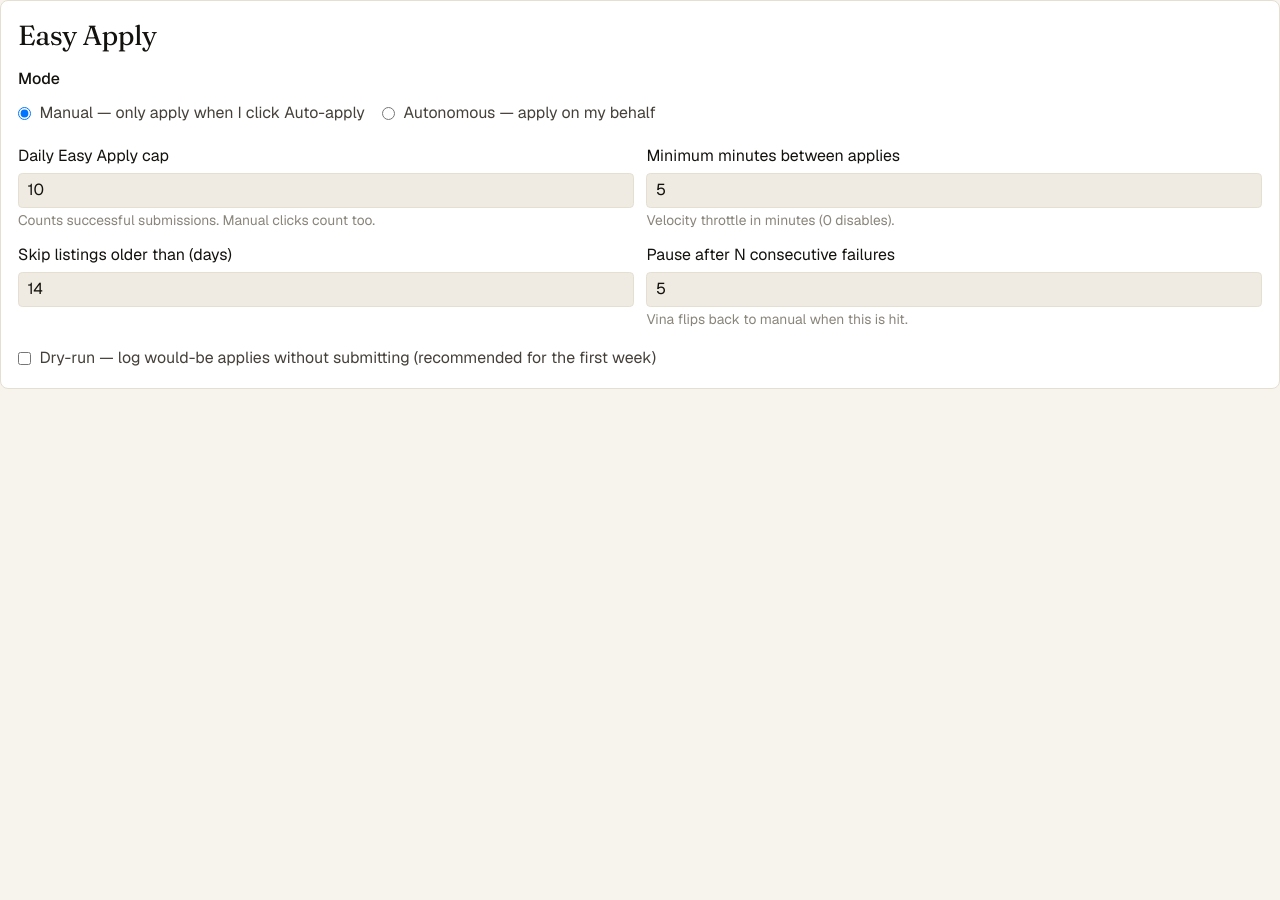
Test: EasyApplyTile › cancelling the risk dialog leaves the mode unchanged
Expected: the radio button labelled "Manual — only apply when I click Auto-apply" is shown, [18,107,31,120]
Step 1. Click the radio button labelled "Autonomous — apply on my behalf" → (388, 113), box [382,107,395,120]
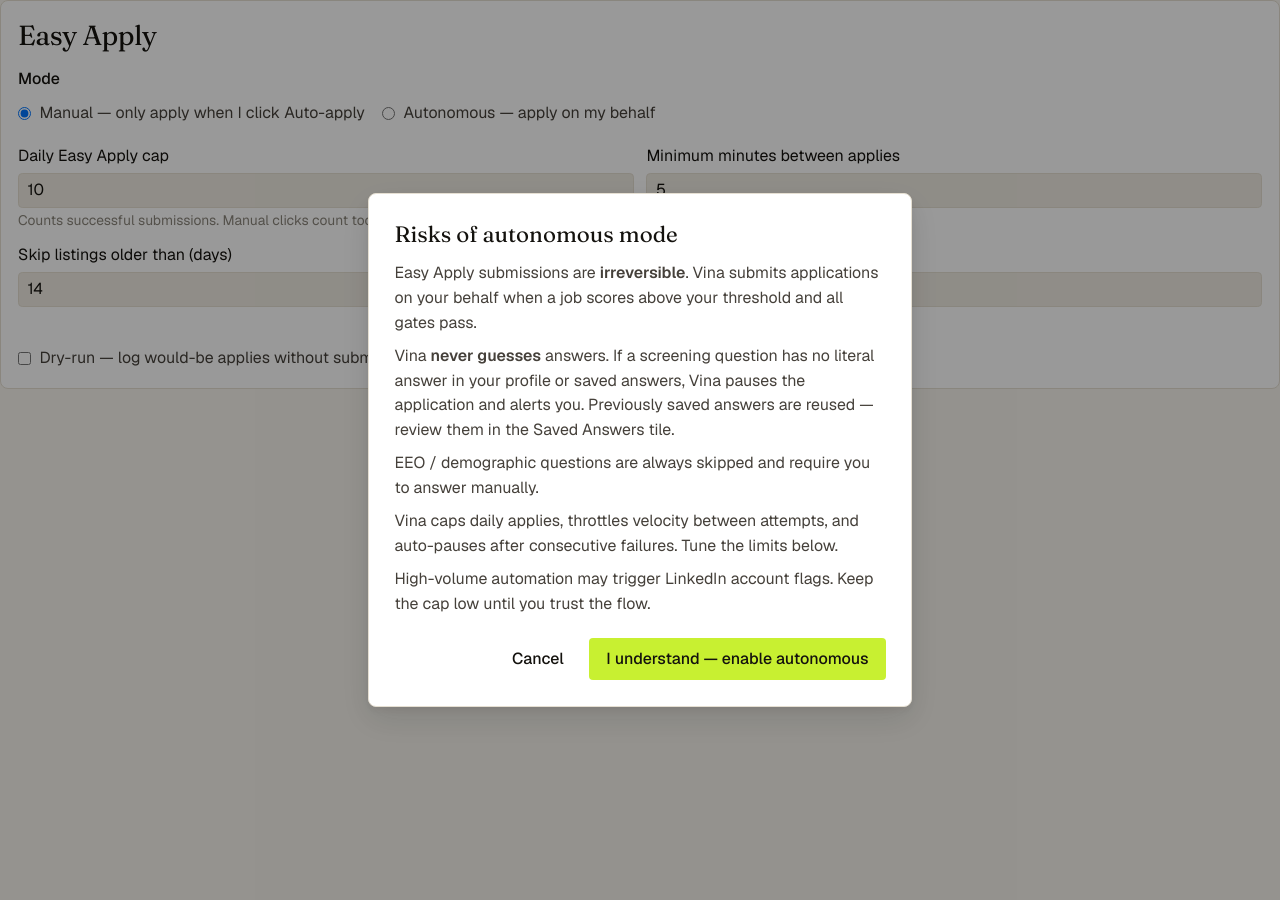
Result: the heading "Risks of autonomous mode" is shown at [394,220,678,248]
Step 2. Click the button "Cancel" → (538, 659), box [495,638,581,680]
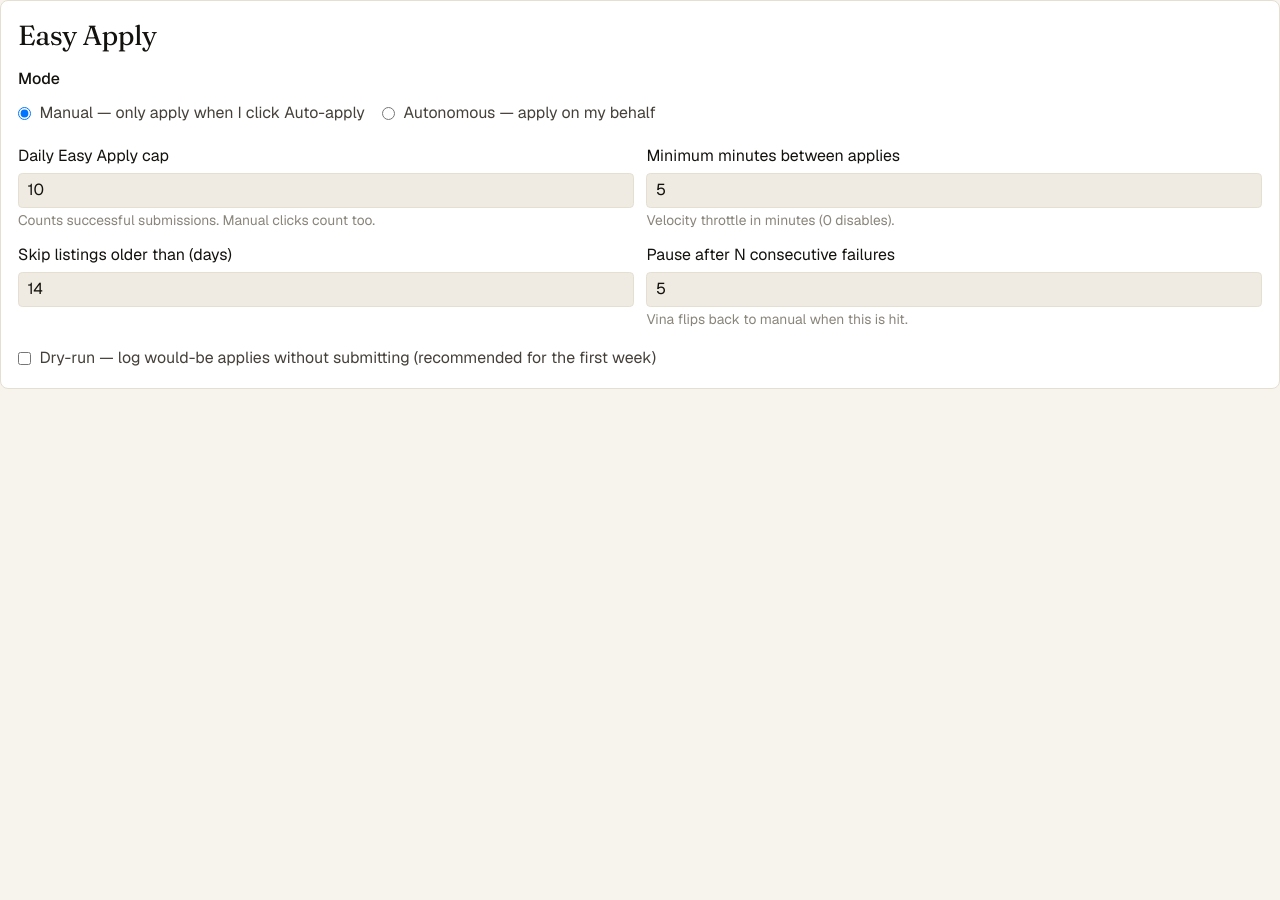
Result: the heading "Risks of autonomous mode" is gone
